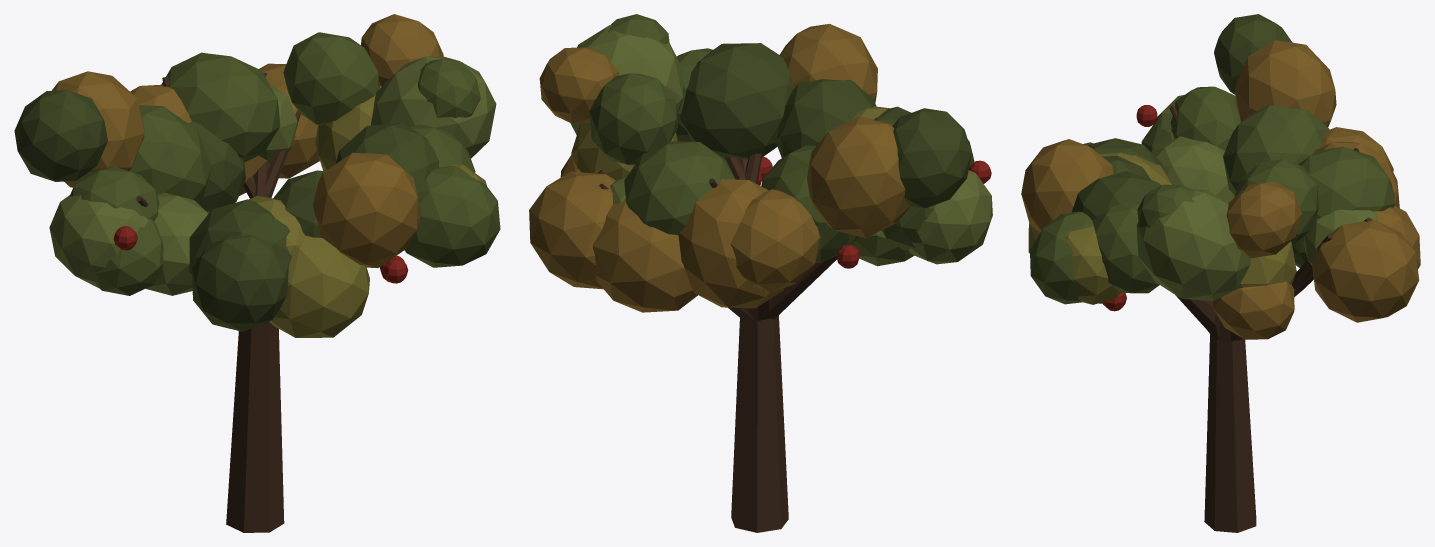
Rendered from apple.glb.
3 views of the same model, side by side, from view 1: azimuth 30°, elevation 25°; view 2: azimuth 150°, elevation 25°; view 3: azimuth 270°, elevation 25° (orthographic). The views are drawn at different scales.
Parts seen in each view (by area): view 1: apple_LOD0; view 2: apple_LOD0; view 3: apple_LOD0.
Part boxes in pixels (x1,y1,x2,y2): apple_LOD0: (14,14,500,532); apple_LOD0: (529,14,992,532); apple_LOD0: (1021,14,1420,532).
Size of what is drawn, in the model's own units: 4.01 by 4.12 by 3.52.
